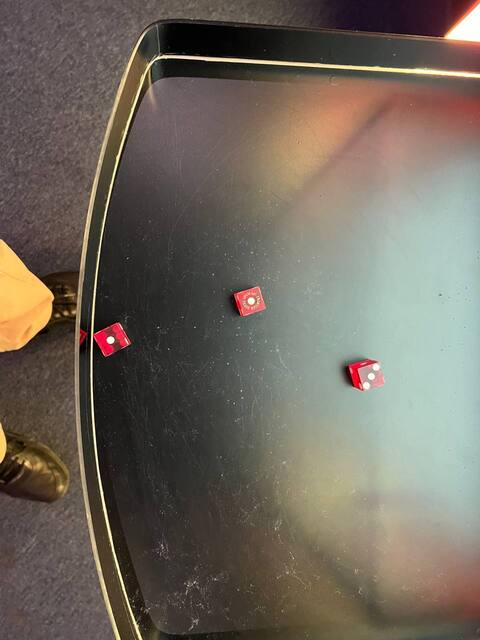one: (91, 320, 130, 360), (231, 283, 270, 320)
three: (353, 360, 386, 392)
